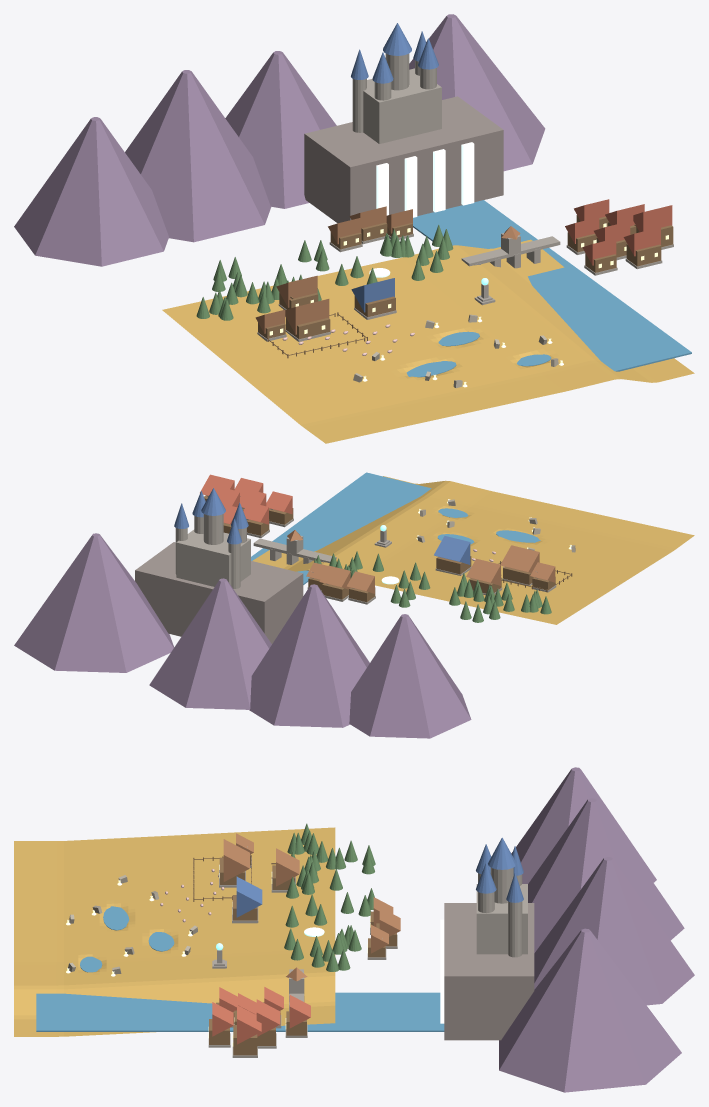
The model's file is Farm_Main_3D_Complete.glb.
3 renders of one model, top to bottom at view 1: azimuth 30°, elevation 25°; view 2: azimuth 150°, elevation 25°; view 3: azimuth 270°, elevation 25°, orthographic. The views are drawn at different scales.
Parts seen in each view (by area): view 1: FarmMain_GoldenMeadow_Terrain, DistantMountainPeak_2, DistantVista_WaterfallCliff, DistantMountainPeak_1, DistantVista_RiverWater, DistantMountainPeak_3, DistantMountainPeak_4, DistantVista_CastleKeep, DistantVista_StoneBridgeDeck, KhuChuongTrai_MainBarn_Roof, DistantVista_WaterfallStream_62, DistantVista_WaterfallStream_52 (+6 smaller); view 2: FarmMain_GoldenMeadow_Terrain, DistantMountainPeak_4, DistantMountainPeak_2, DistantMountainPeak_1, DistantMountainPeak_3, DistantVista_WaterfallCliff, DistantVista_RiverWater, DistantVista_CastleKeep, KhuChuongTrai_MainBarn_Roof, NhaNghienCuu_ResearchObservatory_Roof, NhaXayDung_ConstructionHall_Roof, DistantVista_CastleTower_48_102 (+6 smaller); view 3: FarmMain_GoldenMeadow_Terrain, DistantMountainPeak_4, DistantVista_RiverWater, DistantMountainPeak_3, DistantVista_WaterfallCliff, DistantMountainPeak_2, DistantMountainPeak_1, DistantVista_CastleKeep, DistantVista_CastleTower_59_106, KhuChuongTrai_MainBarn_Roof, NhaNghienCuu_ResearchObservatory_Roof, DistantVista_ChoThiTran_Building_7_Roof (+7 smaller).
Part boxes in pixels (left/top/right/bottom): FarmMain_GoldenMeadow_Terrain: left=162, top=239, right=694, bottom=443; DistantMountainPeak_2: left=125, top=70, right=271, bottom=242; DistantVista_WaterfallCliff: left=304, top=96, right=503, bottom=223; DistantMountainPeak_1: left=14, top=117, right=168, bottom=266; DistantVista_RiverWater: left=413, top=200, right=691, bottom=371; DistantMountainPeak_3: left=225, top=51, right=336, bottom=208; DistantMountainPeak_4: left=409, top=14, right=545, bottom=171; DistantVista_CastleKeep: left=363, top=68, right=441, bottom=143; DistantVista_StoneBridgeDeck: left=461, top=236, right=560, bottom=266; KhuChuongTrai_MainBarn_Roof: left=285, top=299, right=329, bottom=334; DistantVista_WaterfallStream_62: left=461, top=142, right=474, bottom=205; DistantVista_WaterfallStream_52: left=433, top=149, right=445, bottom=212; FarmMain_GoldenMeadow_Terrain: left=252, top=476, right=694, bottom=624; DistantMountainPeak_4: left=14, top=533, right=174, bottom=672; DistantMountainPeak_2: left=249, top=584, right=369, bottom=727; DistantMountainPeak_1: left=349, top=614, right=471, bottom=738; DistantMountainPeak_3: left=149, top=578, right=271, bottom=709; DistantVista_WaterfallCliff: left=135, top=542, right=303, bottom=643; DistantVista_RiverWater: left=251, top=472, right=431, bottom=584; DistantVista_CastleKeep: left=176, top=529, right=250, bottom=586; KhuChuongTrai_MainBarn_Roof: left=500, top=545, right=539, bottom=572; NhaNghienCuu_ResearchObservatory_Roof: left=434, top=536, right=470, bottom=564; NhaXayDung_ConstructionHall_Roof: left=466, top=558, right=500, bottom=585; DistantVista_CastleTower_48_102: left=203, top=514, right=223, bottom=544; FarmMain_GoldenMeadow_Terrain: left=14, top=827, right=335, bottom=1036; DistantMountainPeak_4: left=499, top=928, right=681, bottom=1092; DistantVista_RiverWater: left=36, top=992, right=444, bottom=1031; DistantMountainPeak_3: left=534, top=857, right=694, bottom=1005; DistantVista_WaterfallCliff: left=444, top=903, right=534, bottom=1040; DistantMountainPeak_2: left=528, top=798, right=684, bottom=952; DistantMountainPeak_1: left=511, top=767, right=656, bottom=883; DistantVista_CastleKeep: left=476, top=884, right=527, bottom=954; DistantVista_CastleTower_59_106: left=508, top=901, right=522, bottom=957; KhuChuongTrai_MainBarn_Roof: left=223, top=839, right=249, bottom=881; NhaNghienCuu_ResearchObservatory_Roof: left=236, top=876, right=262, bottom=917; DistantVista_ChoThiTran_Building_7_Roof: left=237, top=1005, right=261, bottom=1044.
Bounding box in the file's own units: 181 × 60.5 × 212.
